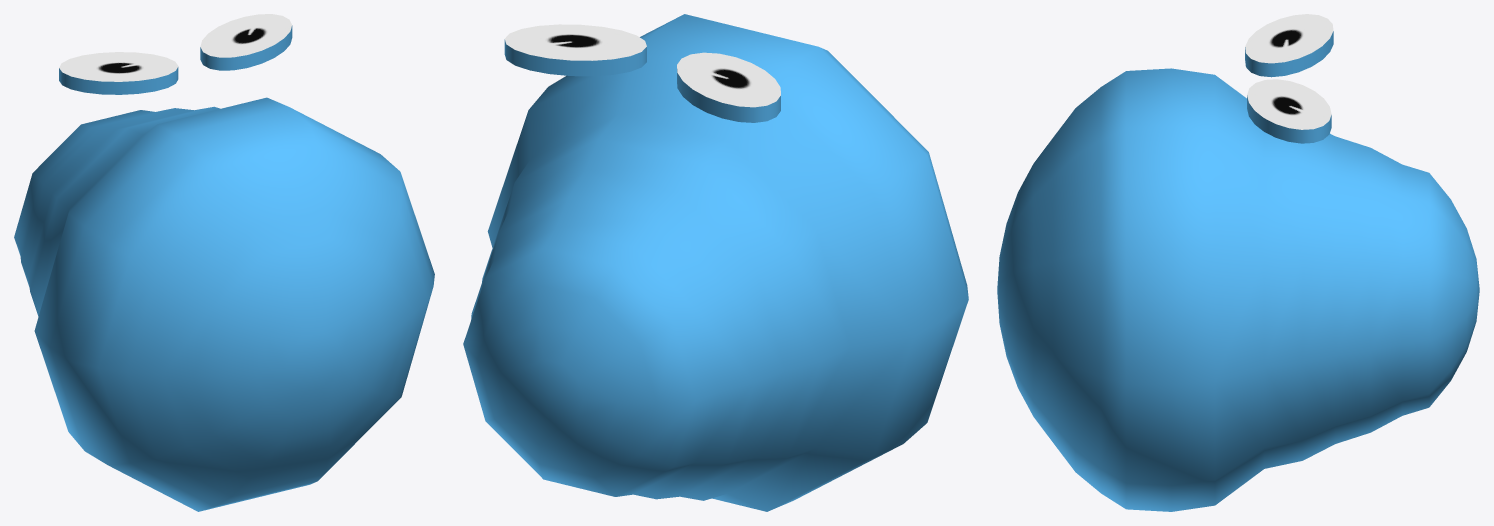
The model's file is Neprijatelj2.fbx.
3 views of the same model, side by side, from view 1: azimuth 30°, elevation 25°; view 2: azimuth 150°, elevation 25°; view 3: azimuth 270°, elevation 25° (orthographic). The views are drawn at different scales.
Visible parts, largest first — view 1: Neprijatelj2; view 2: Neprijatelj2; view 3: Neprijatelj2.
Boxes of the visible parts, left/top/right/bottom form: Neprijatelj2: left=14, top=14, right=434, bottom=511; Neprijatelj2: left=463, top=14, right=968, bottom=511; Neprijatelj2: left=997, top=14, right=1479, bottom=511.
Size of the model in its own units: 74.56 by 76.22 by 80.53.
Materials: 1 (1 with a texture image).
